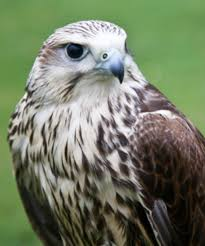Pengoyak Daging: (102, 47, 127, 87)
